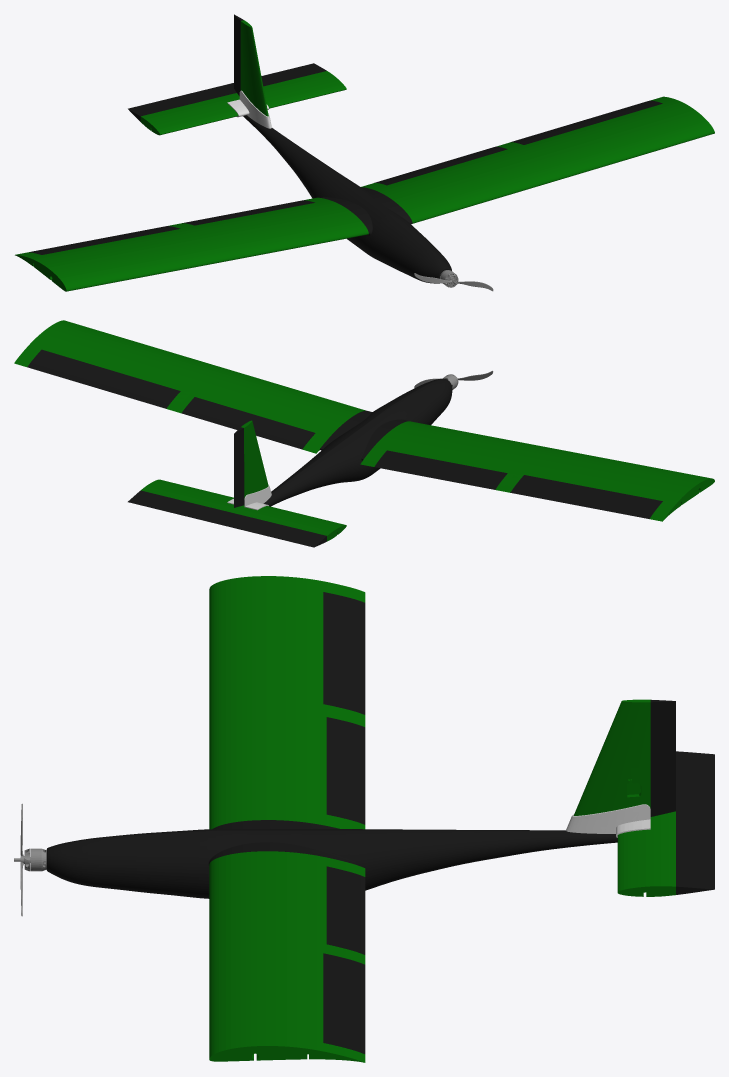
File: dorje.glb
3 renders of one model, top to bottom at view 1: azimuth 30°, elevation 25°; view 2: azimuth 150°, elevation 25°; view 3: azimuth 270°, elevation 25°, orthographic. The views are drawn at different scales.
Visible parts, largest first — view 1: Body1 (×7), Body36, Body4, Body3, Body2, Body147; view 2: Body1 (×7), Body36, Body4, Body3, Body2, Body147; view 3: Body1 (×7), Body36, Body2, Body4, Body3, Body147.
Part boxes in pixels (x1=…): Body1 (×7): x1=15, y1=14, x2=714, y2=291; Body36: x1=243, y1=115, x2=451, y2=283; Body4: x1=511, y1=100, x2=662, y2=144; Body3: x1=374, y1=146, x2=507, y2=185; Body2: x1=182, y1=200, x2=314, y2=225; Body147: x1=227, y1=90, x2=271, y2=128; Body1 (×7): x1=14, y1=320, x2=714, y2=547; Body36: x1=263, y1=378, x2=452, y2=506; Body4: x1=27, y1=349, x2=180, y2=408; Body3: x1=181, y1=397, x2=315, y2=449; Body2: x1=374, y1=450, x2=507, y2=489; Body147: x1=227, y1=485, x2=271, y2=510; Body1 (×7): x1=209, y1=576, x2=714, y2=1062; Body36: x1=46, y1=820, x2=617, y2=898; Body2: x1=326, y1=717, x2=365, y2=824; Body4: x1=323, y1=953, x2=365, y2=1053; Body3: x1=326, y1=866, x2=365, y2=954; Body147: x1=566, y1=804, x2=650, y2=837.
Bounding box in the file's own units: 1714 × 325 × 1079.
